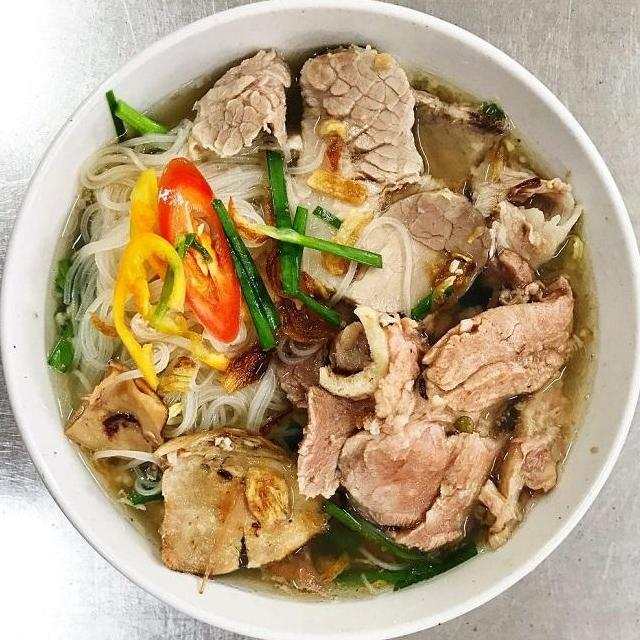banh hu tieu: (53, 117, 303, 441)
hu tieu: (0, 21, 640, 640)
thit bo: (293, 40, 431, 195), (179, 41, 298, 169)
thit heo: (285, 269, 586, 557), (277, 33, 498, 326)
